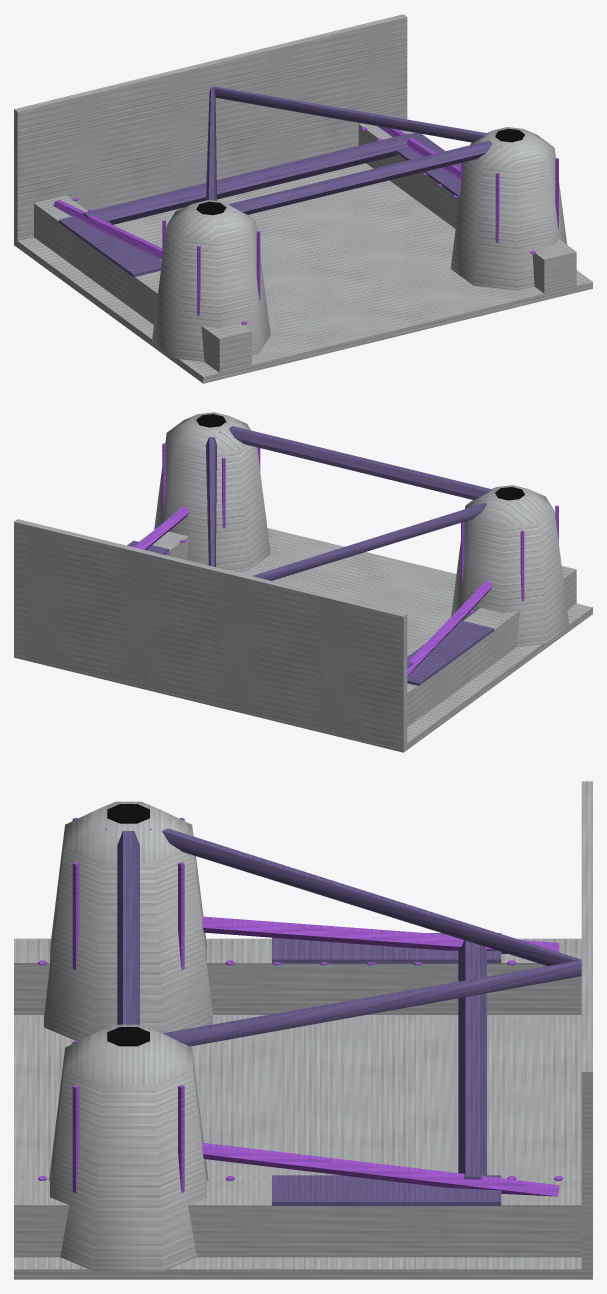
Rendered from carroceria_comp_n5.glb.
3 renders of one model, top to bottom at view 1: azimuth 30°, elevation 25°; view 2: azimuth 150°, elevation 25°; view 3: azimuth 270°, elevation 25°, orthographic. The views are drawn at different scales.
Parts seen in each view (by area): view 1: carroceria_comp_n5; view 2: carroceria_comp_n5; view 3: carroceria_comp_n5.
Boxes of the visible parts, x1,y1,x2,y2 form: carroceria_comp_n5: [14, 14, 592, 383]; carroceria_comp_n5: [14, 412, 592, 752]; carroceria_comp_n5: [14, 781, 592, 1279].
Bounding box in the file's own units: 1.22 × 0.404 × 1.01.
Materials: 2 (2 with a texture image).
